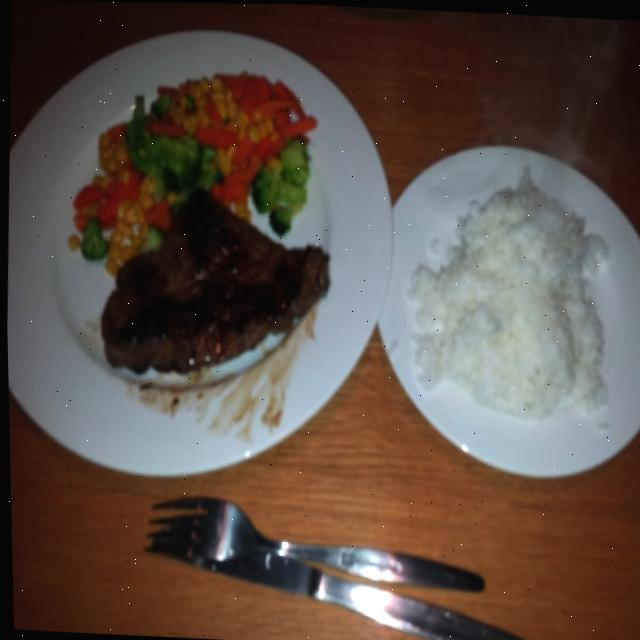牛肉菜式: (84, 165, 342, 395)
米饭主食: (368, 145, 640, 479)
